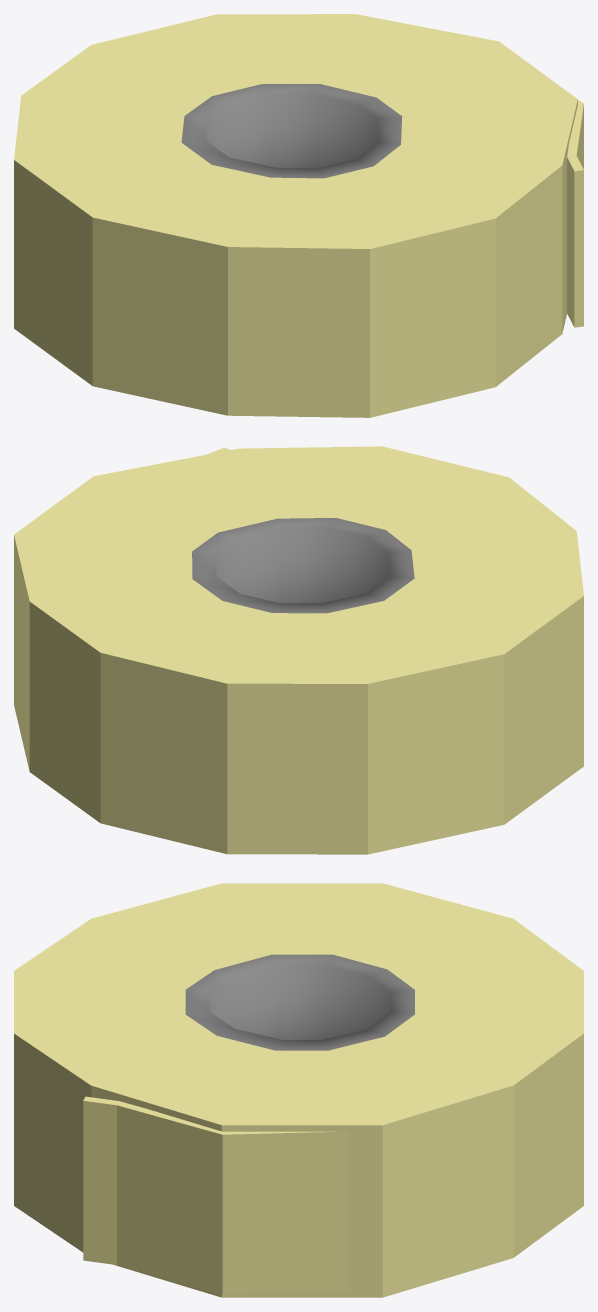
The model's file is tape.glb.
3 renders of one model, top to bottom at view 1: azimuth 30°, elevation 25°; view 2: azimuth 150°, elevation 25°; view 3: azimuth 270°, elevation 25°, orthographic. The views are drawn at different scales.
Visible parts, largest first — view 1: Tape; view 2: Tape; view 3: Tape.
Boxes of the visible parts, x1,y1,x2,y2 form: Tape: (14,14,583,417); Tape: (14,446,583,854); Tape: (14,883,583,1297).
Bounding box in the file's own units: 0.129 × 0.0423 × 0.1268.
1 material, 1 textured.
